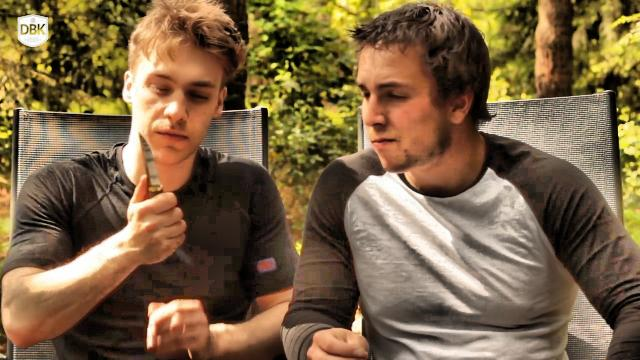knife: (127, 127, 189, 237)
